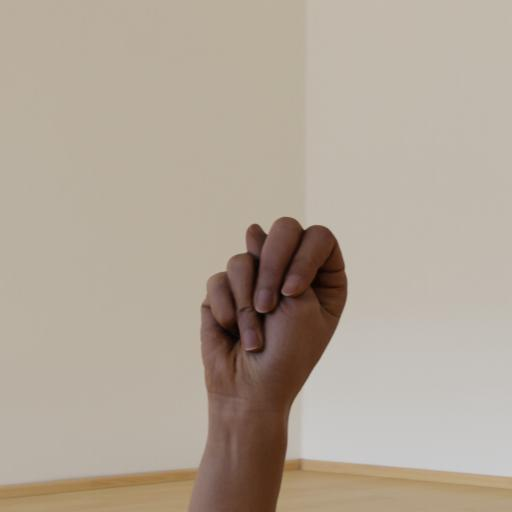N: (184, 210, 356, 512)
